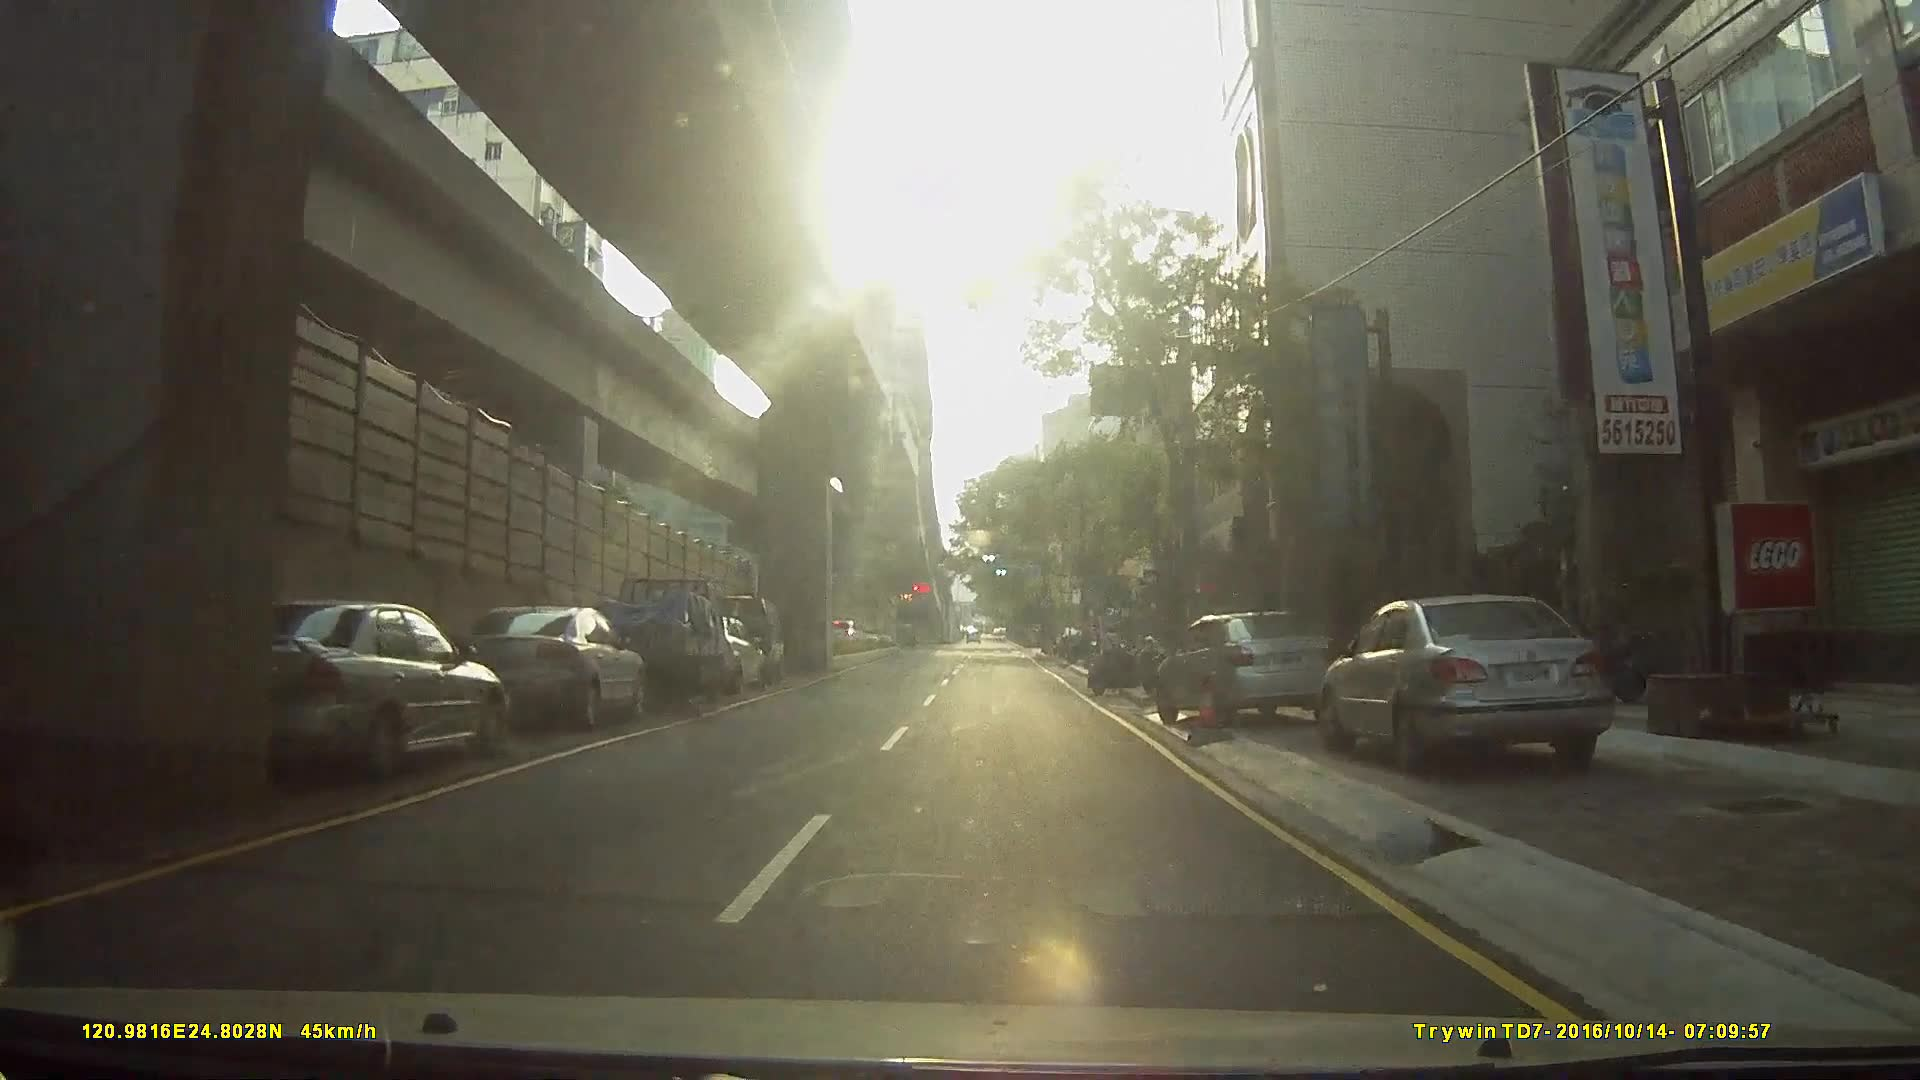rider: (1090, 626, 1158, 702)
vehicle: (183, 600, 518, 800), (1327, 591, 1638, 778), (432, 607, 655, 739), (1154, 604, 1350, 729), (577, 572, 724, 711)
